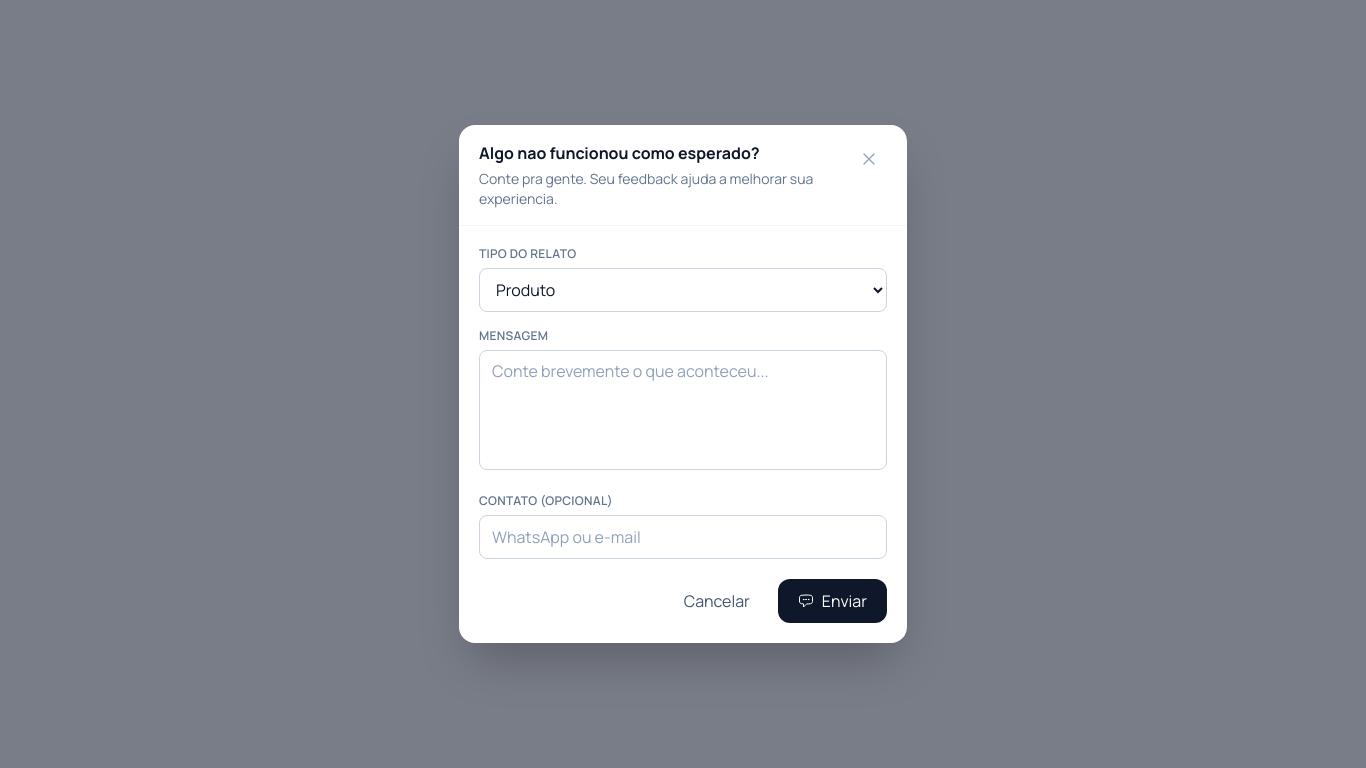
Test case: FeedbackDialog › submits the form and shows the success state
Type "O produto veio quebrado." into the text box labelled "Mensagem" at (683, 410), box [479, 350, 887, 470]
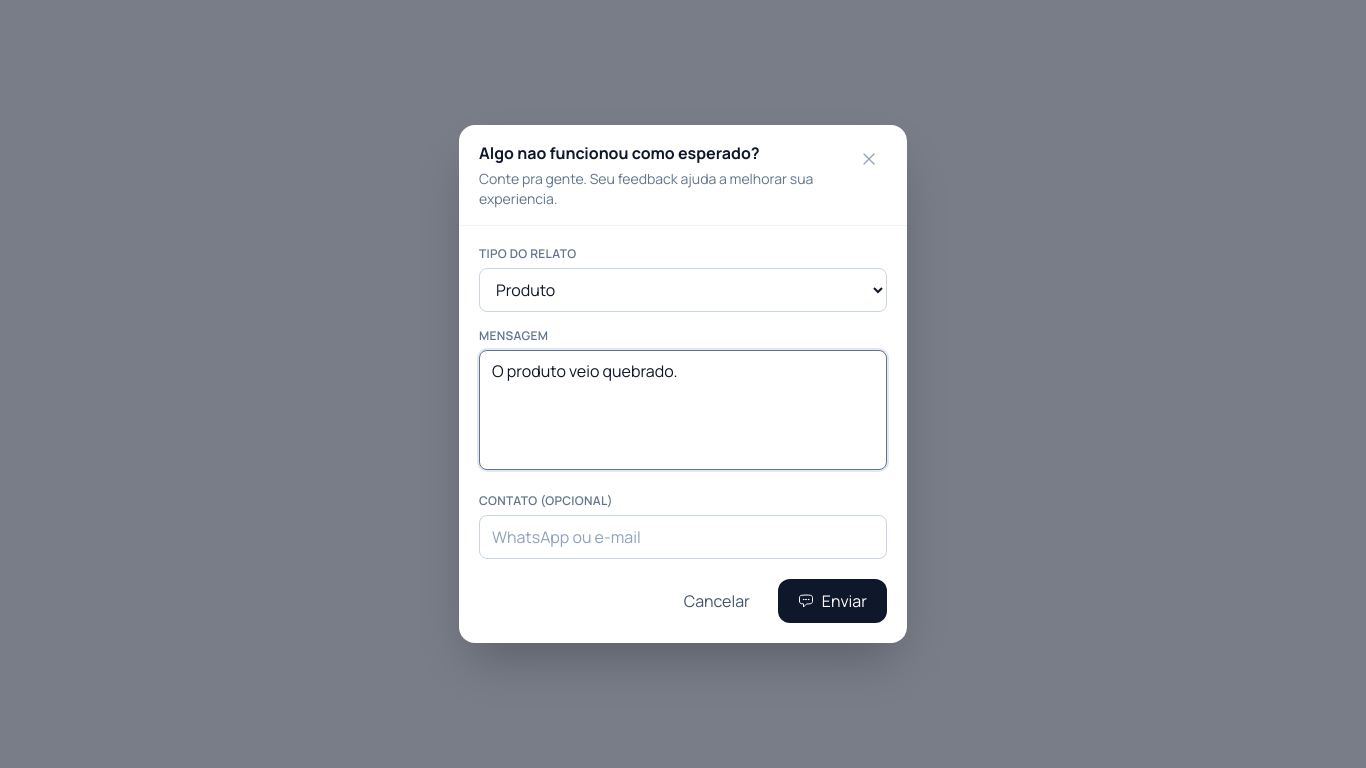
Submit the form, box [459, 226, 907, 644]
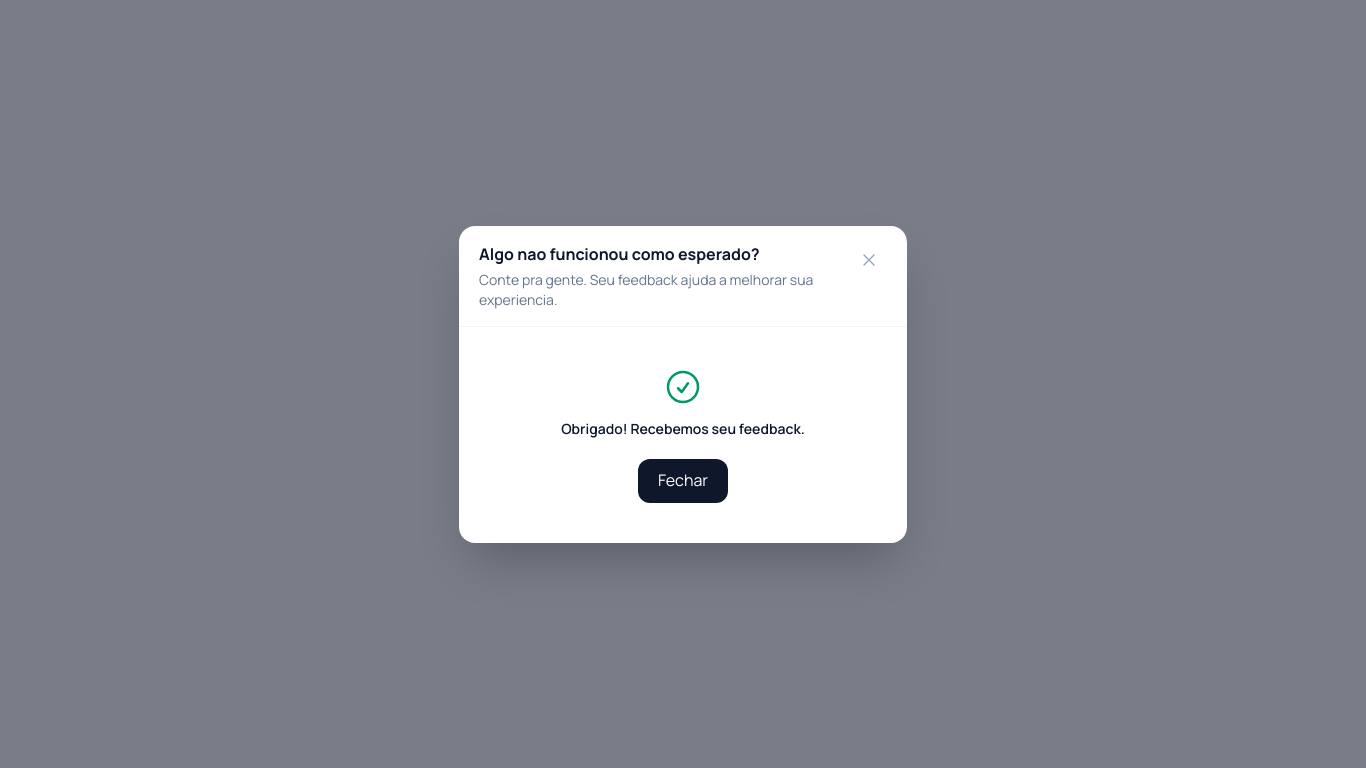
Check: the text "Obrigado! Recebemos seu feedback." is shown, box [561, 418, 805, 438]
